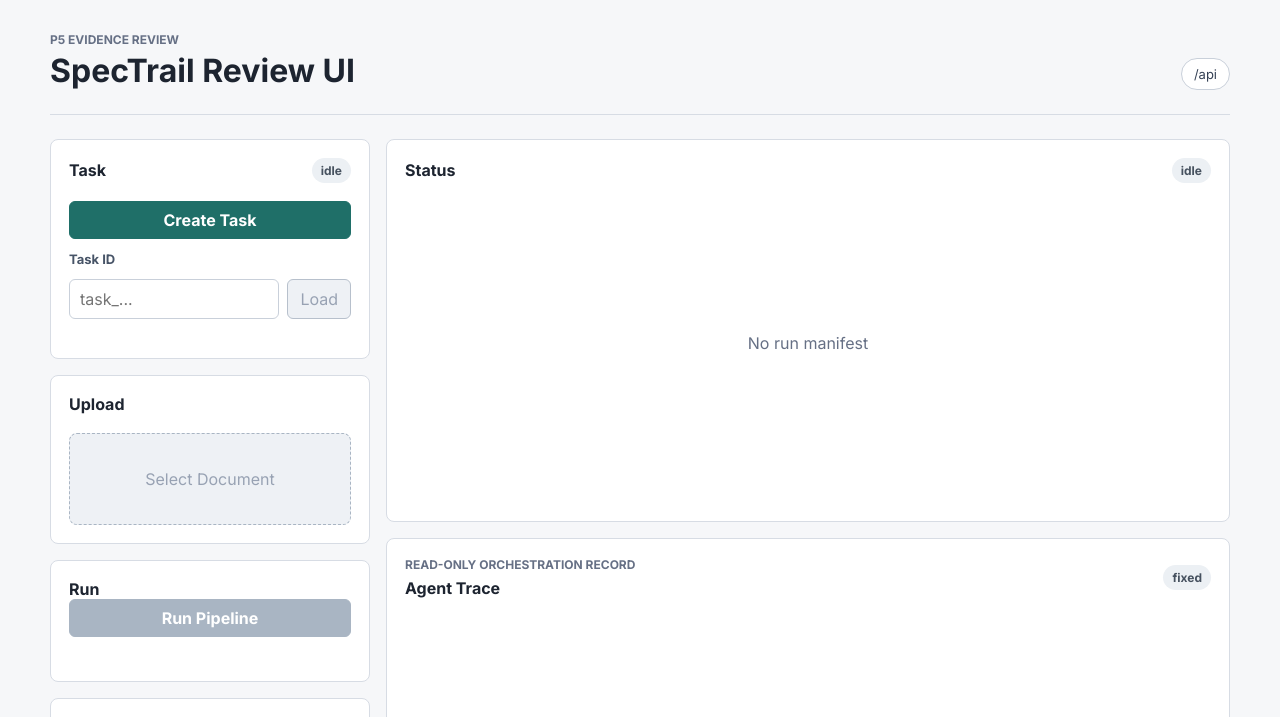
Test: App pipeline run reconciliation › reports a lost first-run response as a notice after trusted Evidence loads
Type "task-1" into the field labelled "Task ID".
click(174, 299); type("task-1")  # box [69,279,279,319]
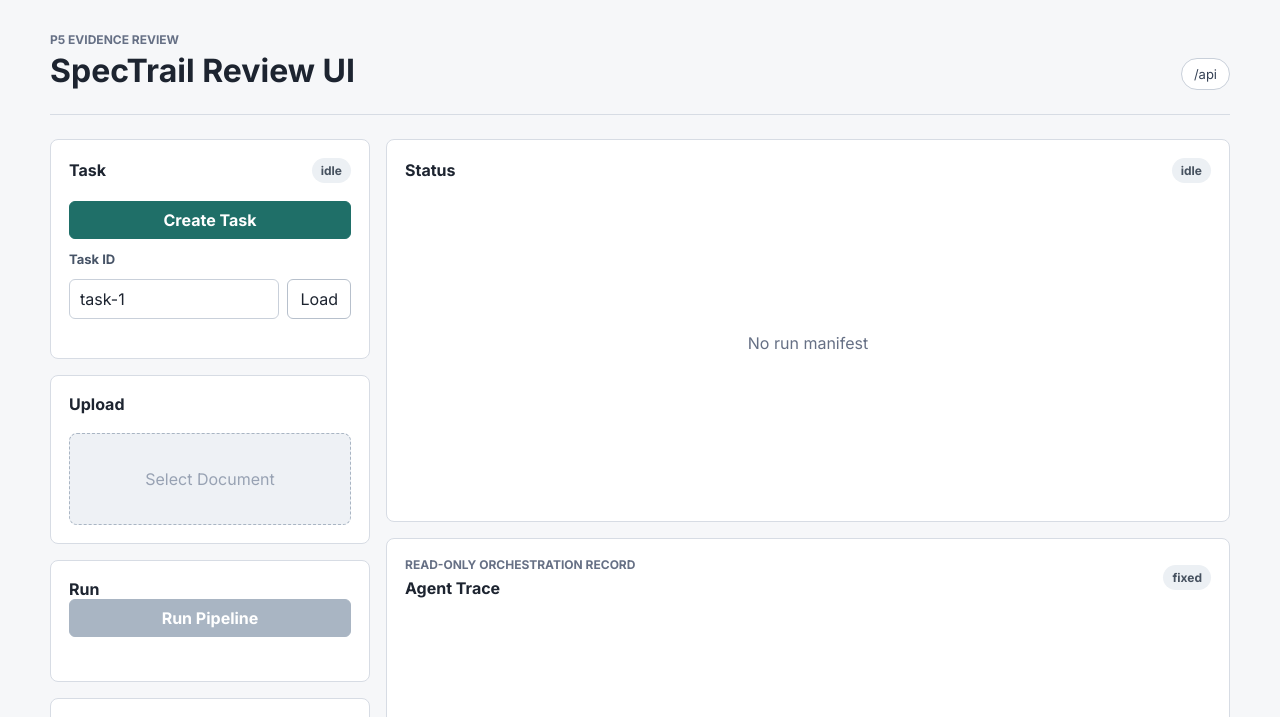
Click the button "Load".
click(319, 299)  # box [287,279,351,319]
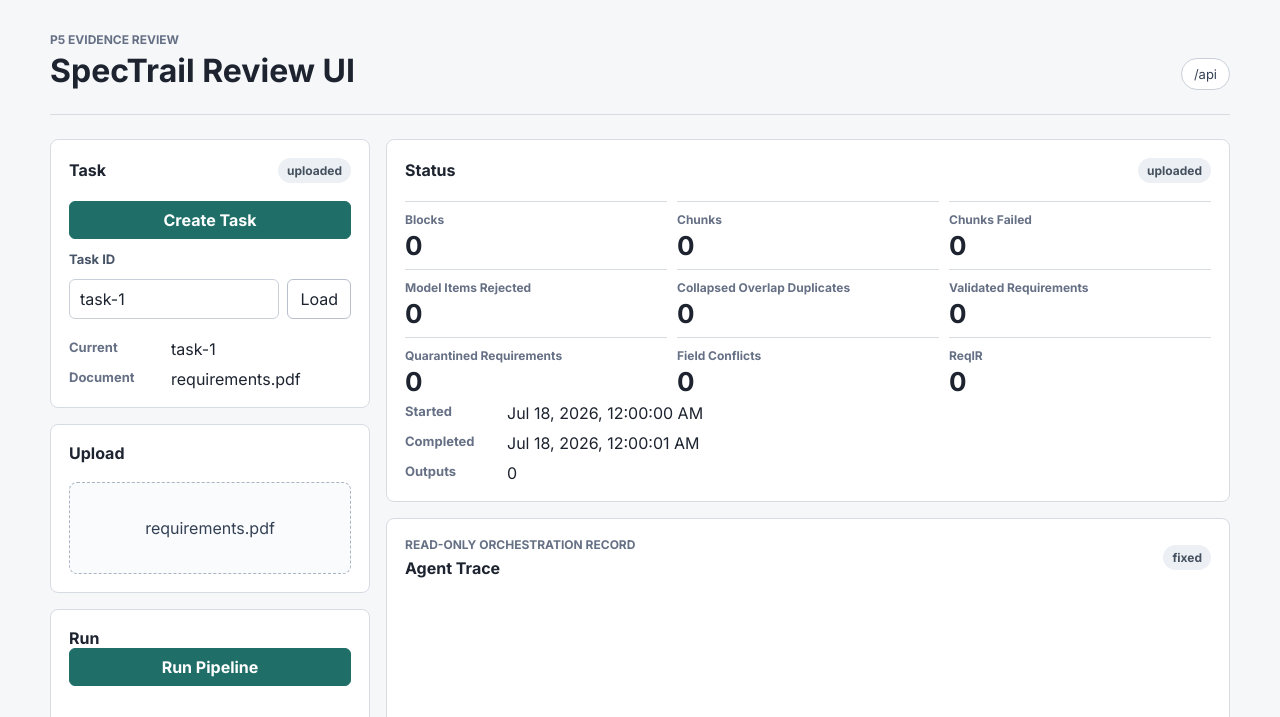
Click the button "Run Pipeline".
click(210, 667)  # box [69,648,351,686]
(page scrolled)
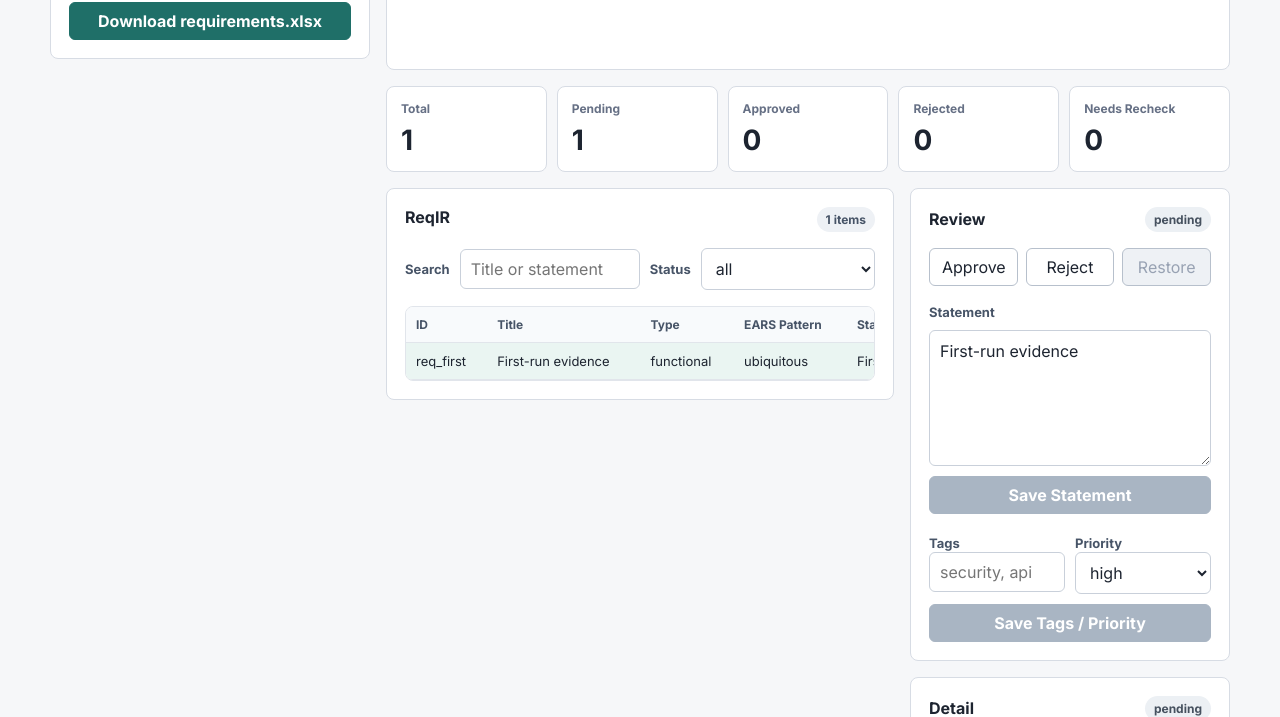
Check: the text "First-run evidence" is shown, box [487,342,640,379]
